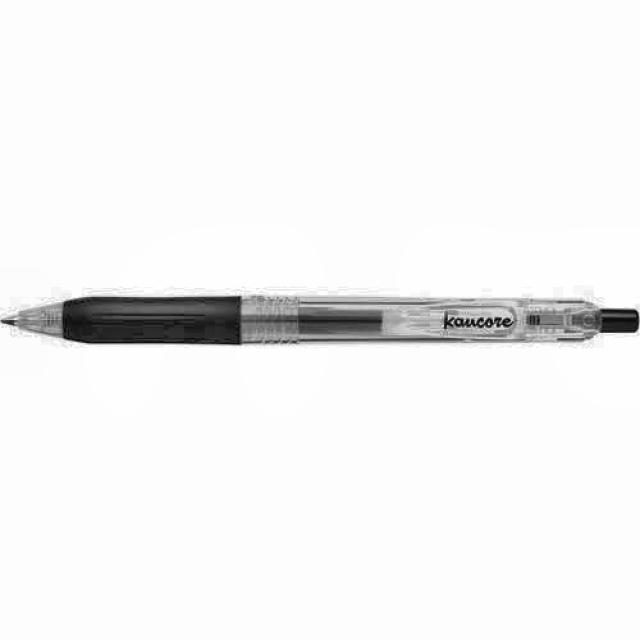Pen: (0, 257, 639, 360)
